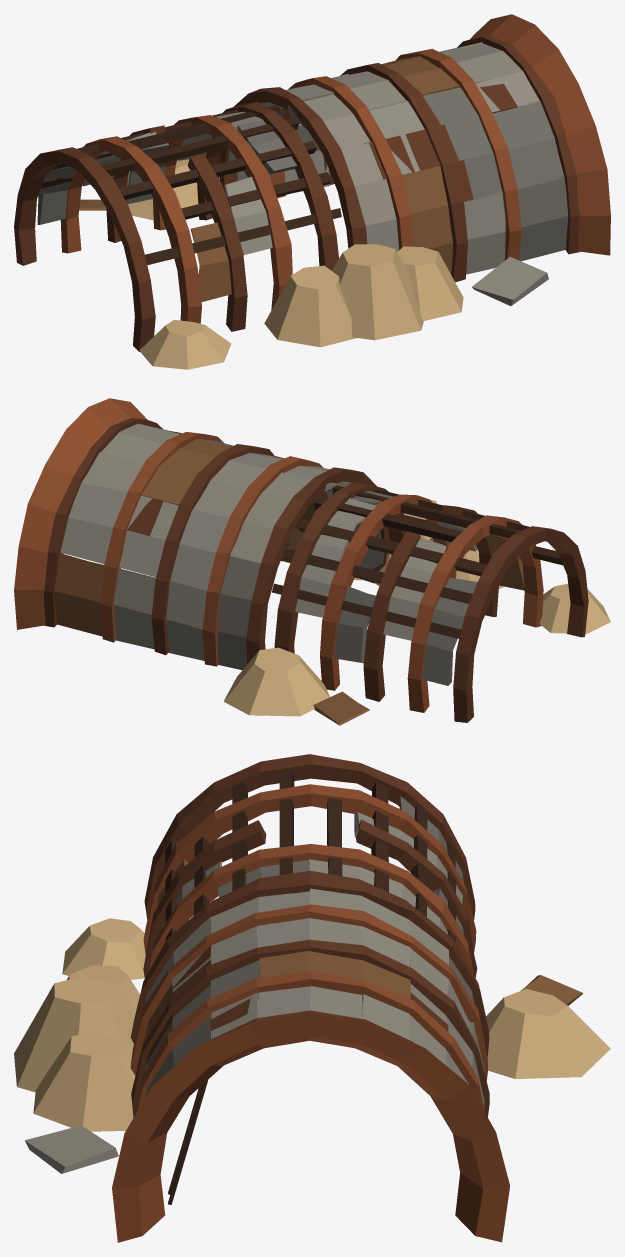
The model's file is engine_nozzle.glb.
3 views of the same model, one above another, from view 1: azimuth 30°, elevation 25°; view 2: azimuth 150°, elevation 25°; view 3: azimuth 270°, elevation 25° (orthographic). The views are drawn at different scales.
Visible parts, largest first — view 1: engine_nozzle; view 2: engine_nozzle; view 3: engine_nozzle.
Boxes of the visible parts, <box> form: engine_nozzle: <box>14,14,610,369</box>; engine_nozzle: <box>14,398,610,725</box>; engine_nozzle: <box>14,754,610,1242</box>.
Bounding box in the file's own units: 26.17 × 9.56 × 22.5.
